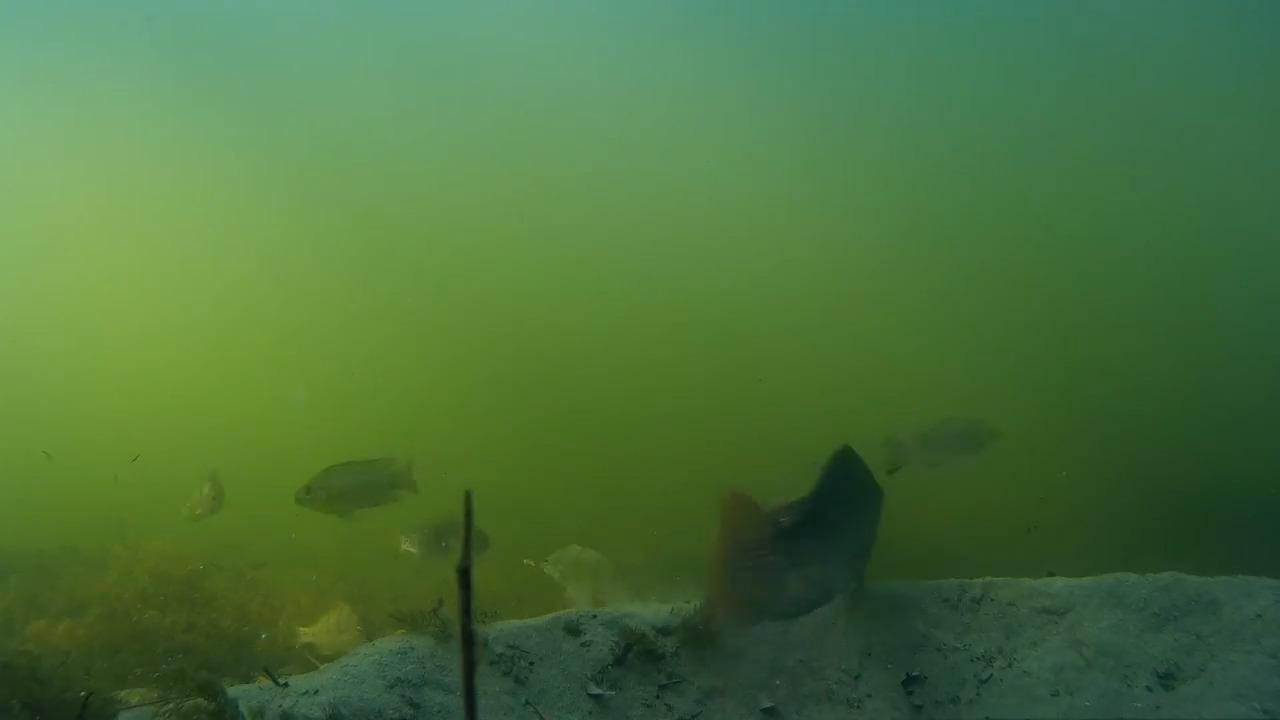Tilapia: (698, 446, 907, 648), (283, 438, 424, 524), (536, 522, 645, 626), (888, 412, 1017, 494), (276, 588, 383, 672), (390, 506, 489, 570), (174, 468, 253, 544)
